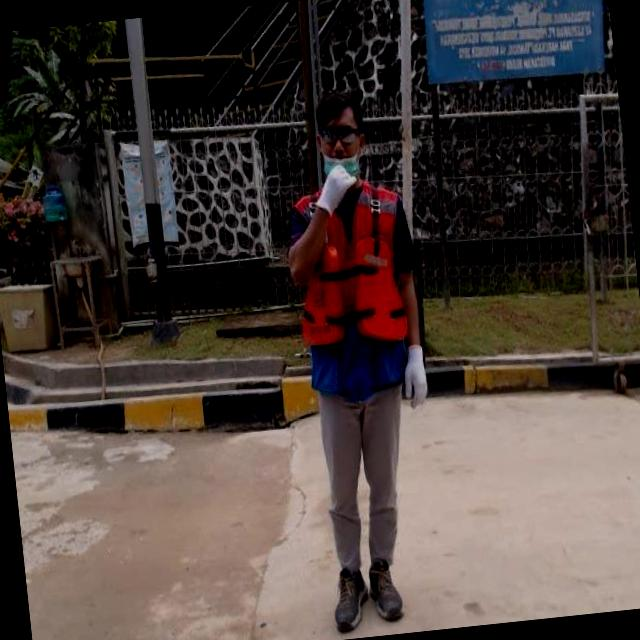boots: (325, 566, 369, 636), (364, 556, 406, 624)
gloves: (302, 159, 368, 237), (378, 342, 436, 427)
no-helmet: (302, 78, 372, 189)
vest: (283, 177, 421, 400)
